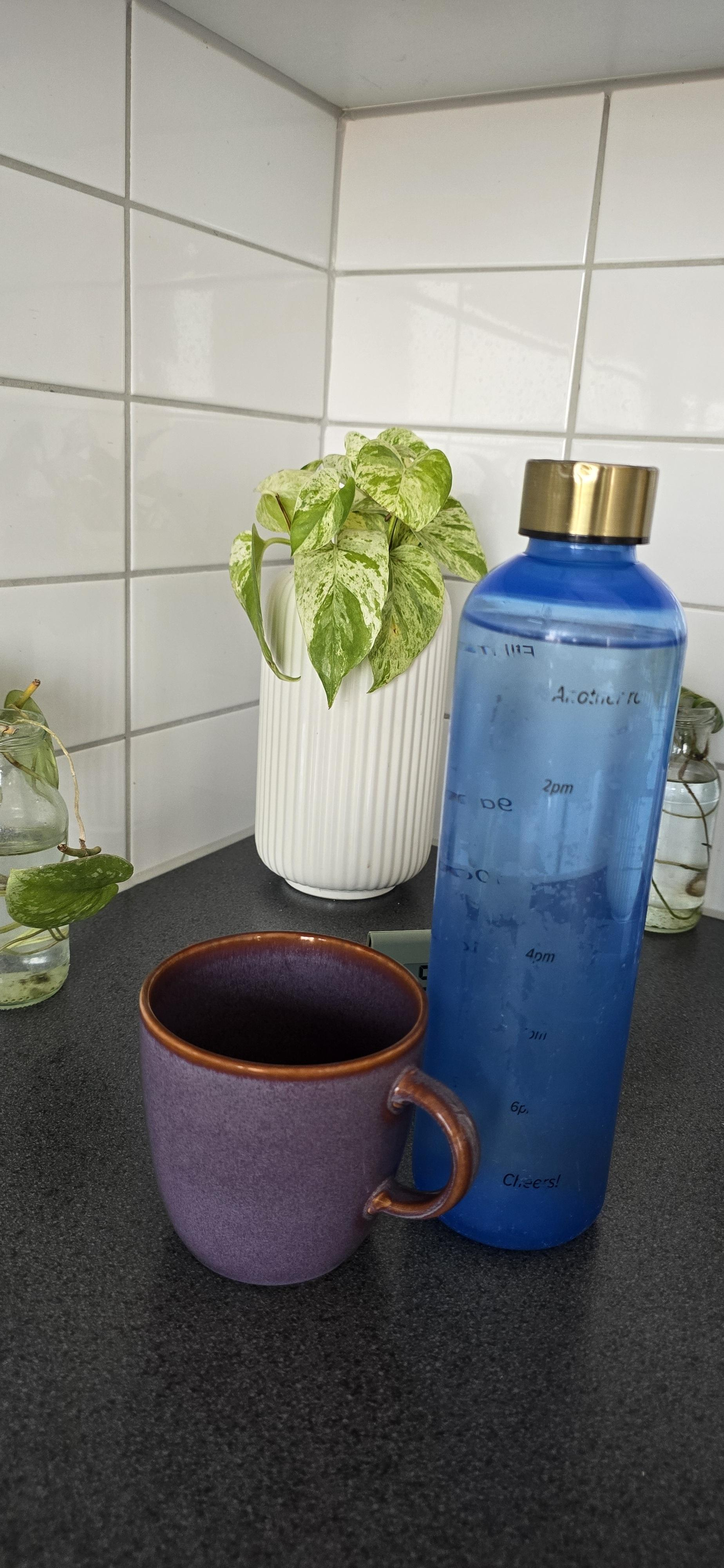bottle: (482, 452, 677, 1254)
